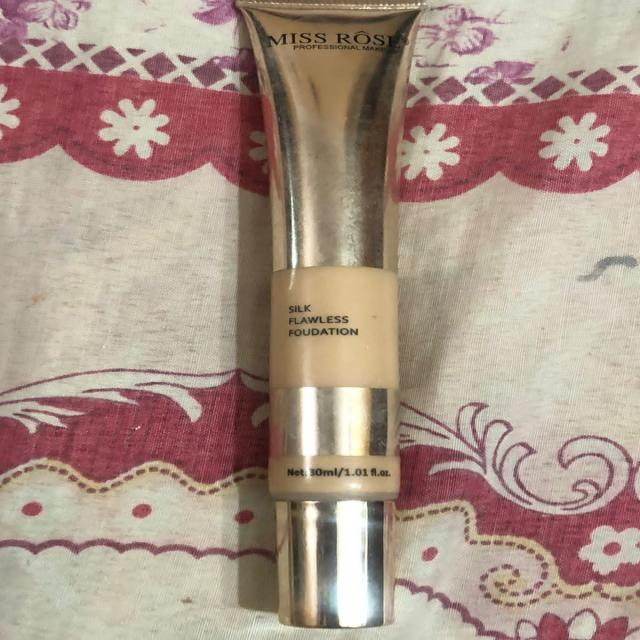foundation: (198, 0, 475, 640)
